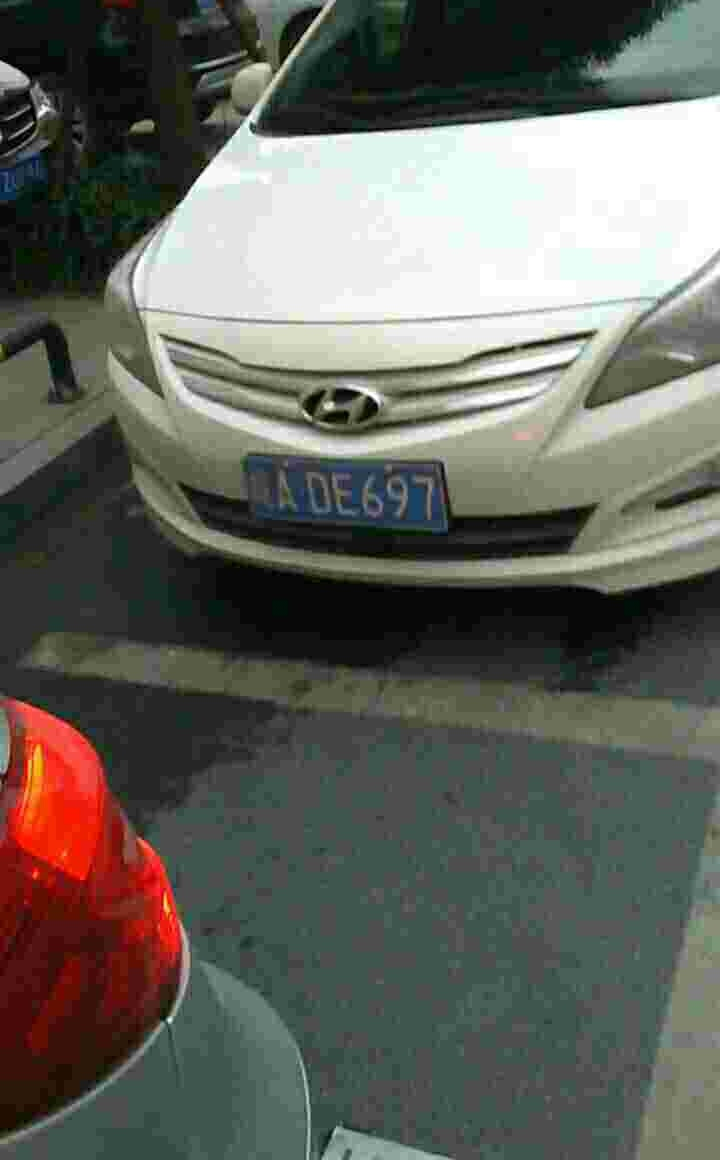license_plate: (251, 462, 454, 531)
